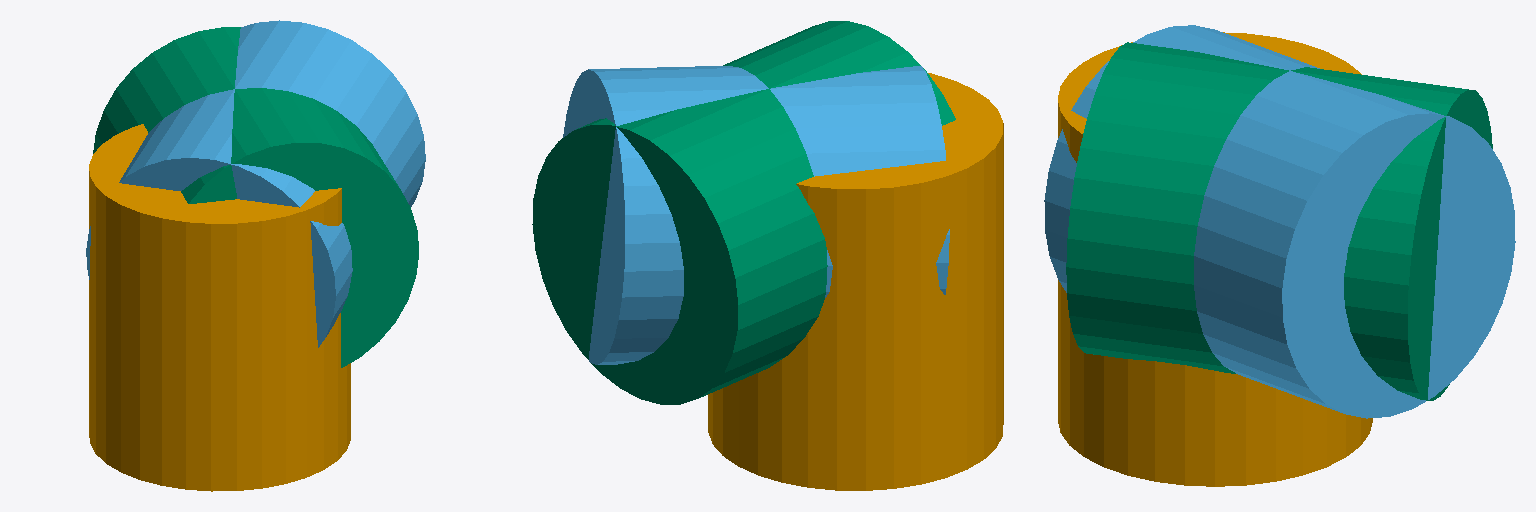
robot.urdf — pepe:
<?xml version="1.0"?><robot name="pepe">
	<link name="0">
		<visual>
			<geometry>
				<cylinder length="2.052335271366942" radius="0.9127046226389154"/>
			</geometry>
		</visual>
		<collision>
			<geometry>
				<cylinder length="2.052335271366942" radius="0.9127046226389154"/>
			</geometry>
		</collision>
		<inertial>
			<mass value="5.371043651051132"/>
			<inertia ixx="0.03" iyy="0.03" izz="0.03" ixy="0" ixz="0" iyx="0"/>
		</inertial>
	</link>
	<link name="11">
		<visual>
			<geometry>
				<cylinder length="2.052335271366942" radius="0.9127046226389154"/>
			</geometry>
		</visual>
		<collision>
			<geometry>
				<cylinder length="2.052335271366942" radius="0.9127046226389154"/>
			</geometry>
		</collision>
		<inertial>
			<mass value="5.371043651051132"/>
			<inertia ixx="0.03" iyy="0.03" izz="0.03" ixy="0" ixz="0" iyx="0"/>
		</inertial>
	</link>
	<link name="12">
		<visual>
			<geometry>
				<cylinder length="2.052335271366942" radius="0.9127046226389154"/>
			</geometry>
		</visual>
		<collision>
			<geometry>
				<cylinder length="2.052335271366942" radius="0.9127046226389154"/>
			</geometry>
		</collision>
		<inertial>
			<mass value="5.371043651051132"/>
			<inertia ixx="0.03" iyy="0.03" izz="0.03" ixy="0" ixz="0" iyx="0"/>
		</inertial>
	</link>
	<joint name="11_to_0" type="revolute">
		<parent link="0"/>
		<child link="11"/>
		<axis xyz="0 0 1"/>
		<limit effort="1" upper="-3.1415" lower="3.1415" velocity="1"/>
		<origin rpy="7.411953740856436 4.876322053624647 2.7448851529332043" xyz="0.5045162168138982 0.37417202270557537 0.47573861974484777"/>
	</joint>
	<joint name="12_to_0" type="revolute">
		<parent link="0"/>
		<child link="12"/>
		<axis xyz="0 0 1"/>
		<limit effort="1" upper="-3.1415" lower="3.1415" velocity="1"/>
		<origin rpy="11.117930611284654 4.876322053624647 2.7448851529332043" xyz="0.5045162168138982 0.37417202270557537 0.47573861974484777"/>
	</joint>
</robot>

--- Render facts (derived) ---
Views: 3 orthographic renders of the robot side by side, from view 1: azimuth 30°, elevation 25°; view 2: azimuth 150°, elevation 25°; view 3: azimuth 270°, elevation 25°.
Robot: pepe — 3 links, 2 joints (2 revolute); root link 0; default pose: every joint at zero.
Visible links, largest first — view 1: 0, 12, 11; view 2: 0, 12, 11; view 3: 11, 12, 0.
Boxes of the visible links, x1=… form: 0: x1=89, y1=124, x2=350, y2=491; 12: x1=93, y1=27, x2=418, y2=367; 11: x1=86, y1=20, x2=425, y2=347; 0: x1=708, y1=73, x2=1003, y2=490; 12: x1=532, y1=21, x2=955, y2=404; 11: x1=563, y1=66, x2=949, y2=364; 11: x1=1044, y1=25, x2=1515, y2=418; 12: x1=1066, y1=42, x2=1492, y2=400; 0: x1=1058, y1=32, x2=1372, y2=486.
Bounding box of the posed robot: 2.79 × 2.73 × 2.48 m (x, y, z).
Geometry: primitives only (box / cylinder / sphere), no mesh files.
